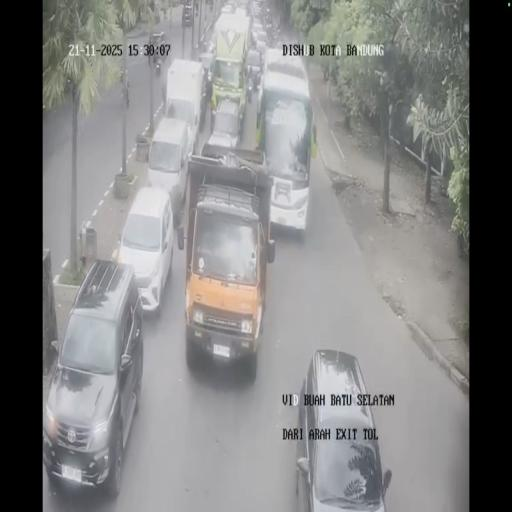car: (146, 116, 192, 219), (245, 48, 263, 92), (254, 34, 267, 58), (222, 2, 236, 15)
truck: (182, 144, 278, 372), (256, 48, 314, 238), (207, 6, 252, 128), (182, 2, 193, 26)
